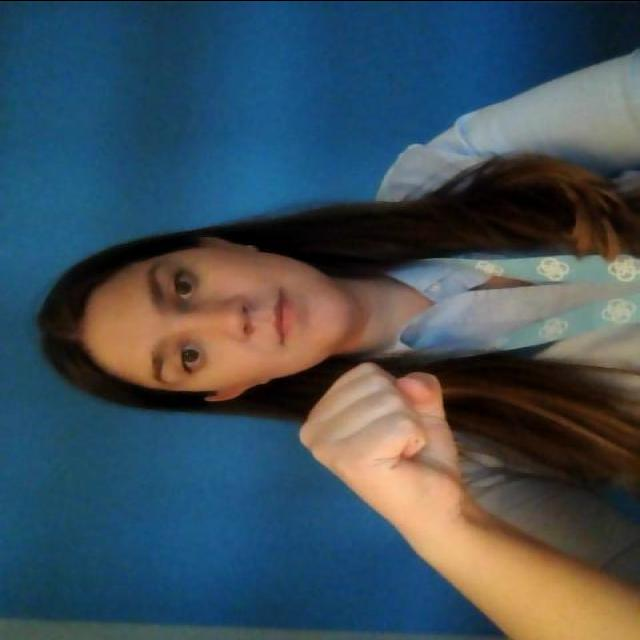Rock: (288, 352, 462, 512)
